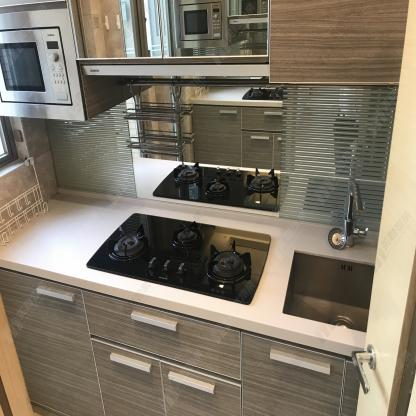Cupboard: (0, 269, 361, 416), (68, 0, 410, 84)
Exhaust Hood: (81, 62, 271, 77)
Faucet: (325, 170, 370, 255)
Microwave: (0, 7, 85, 122)
Sink: (282, 248, 375, 331)
Stove: (82, 212, 273, 308)
